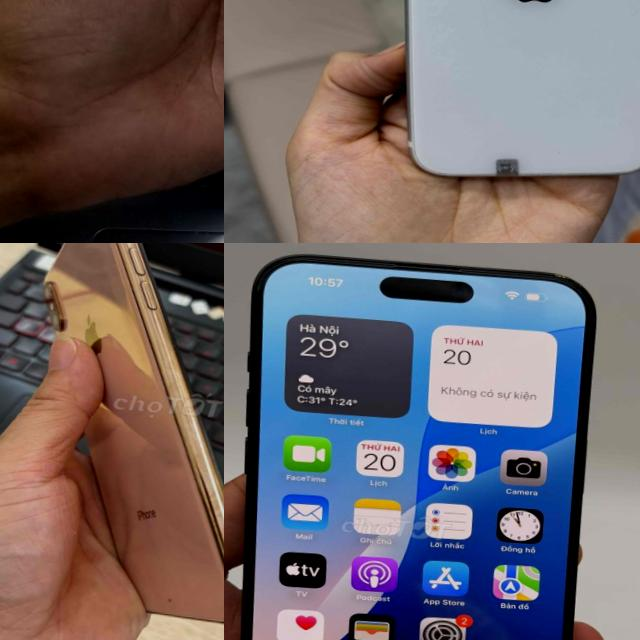scratch: (154, 588, 181, 611)
